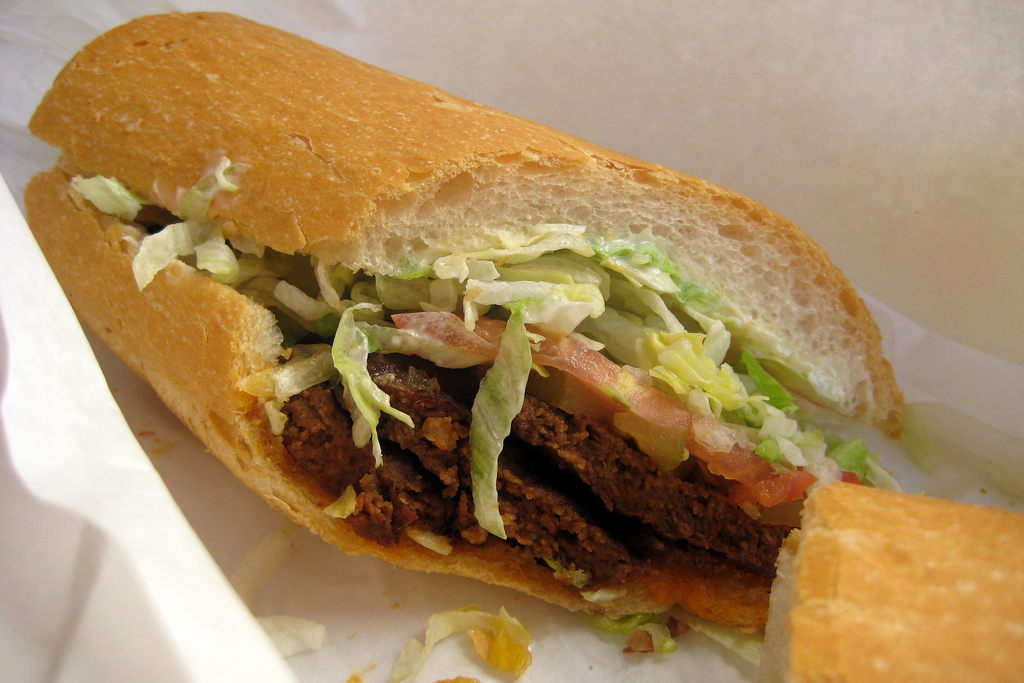slice of bread: (68, 33, 855, 366), (45, 197, 765, 554)
